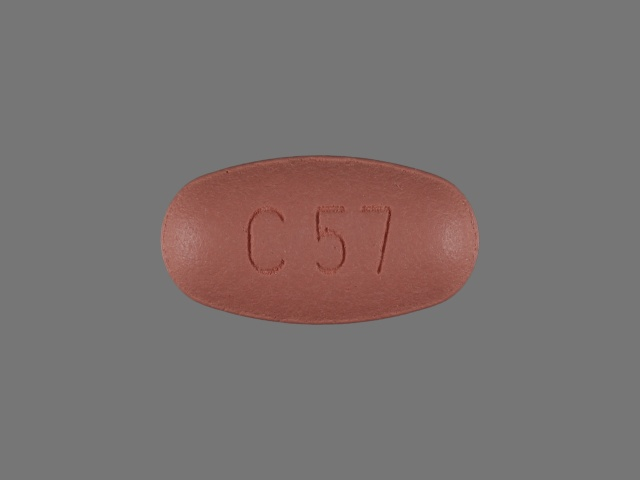5: (308, 206, 351, 276)
7: (357, 201, 400, 277)
C: (243, 204, 289, 278)
